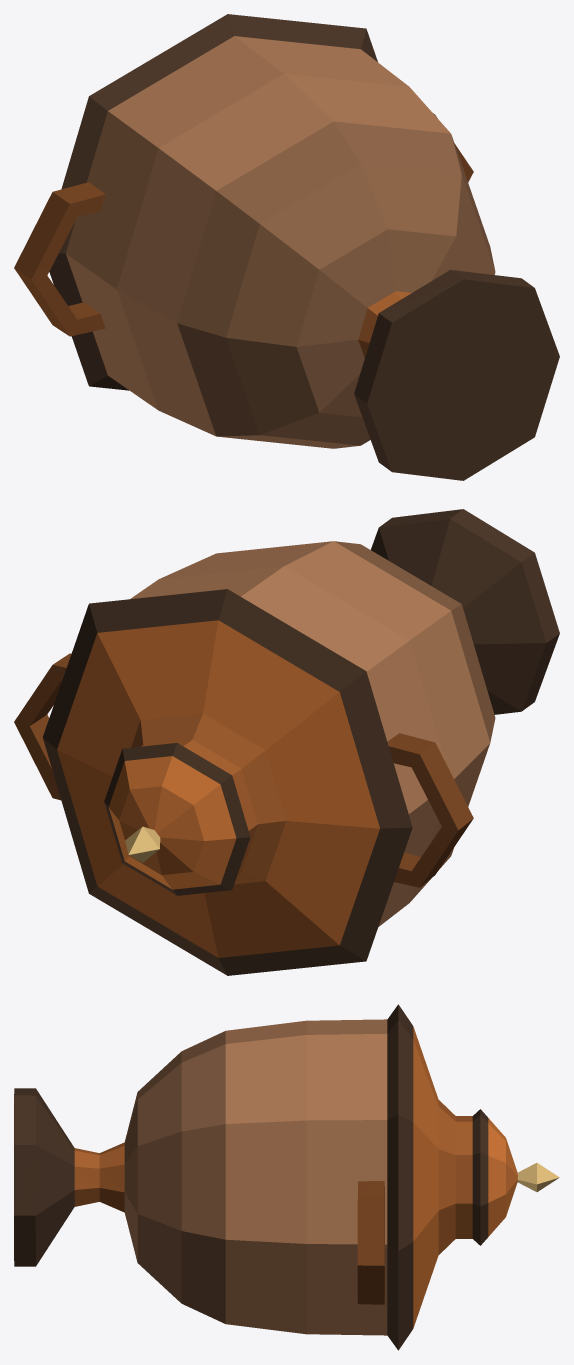
File: Urn 03.FBX
3 renders of one model, top to bottom at view 1: azimuth 30°, elevation 25°; view 2: azimuth 150°, elevation 25°; view 3: azimuth 270°, elevation 25°, orthographic. The views are drawn at different scales.
Visible parts, largest first — view 1: Urn 03; view 2: Urn 03; view 3: Urn 03.
Boxes of the visible parts, left/top/right/bottom form: Urn 03: left=14, top=14, right=559, bottom=480; Urn 03: left=14, top=509, right=559, bottom=975; Urn 03: left=14, top=1004, right=559, bottom=1350.
Size of the model in its own units: 47.59 by 62.15 by 39.58.
